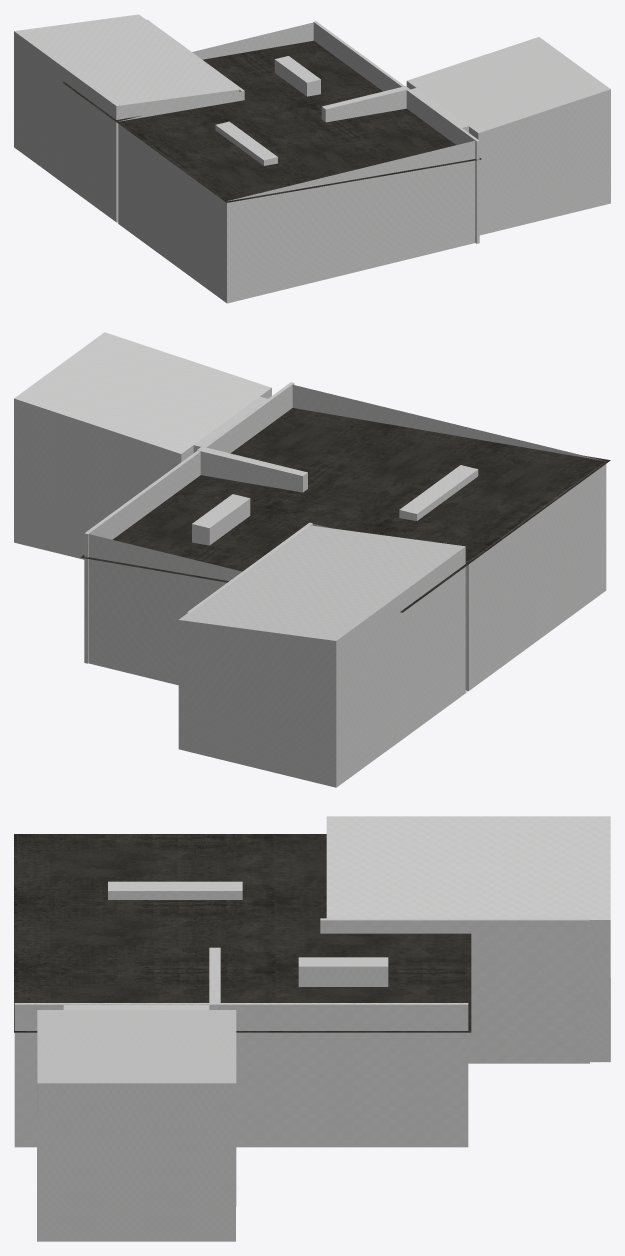
The model's file is Gallery_13.glb.
3 renders of one model, top to bottom at view 1: azimuth 30°, elevation 25°; view 2: azimuth 150°, elevation 25°; view 3: azimuth 270°, elevation 25°, orthographic. The views are drawn at different scales.
Visible parts, largest first — view 1: HIdingWall; view 2: HIdingWall; view 3: HIdingWall.
Boxes of the visible parts, box(x1,y1,x2,y2) form: HIdingWall: box(14, 14, 610, 303); HIdingWall: box(14, 332, 610, 787); HIdingWall: box(14, 816, 610, 1241).
Bounding box in the file's own units: 56 × 15.93 × 53.17.
Materials: 2 (2 with a texture image).
